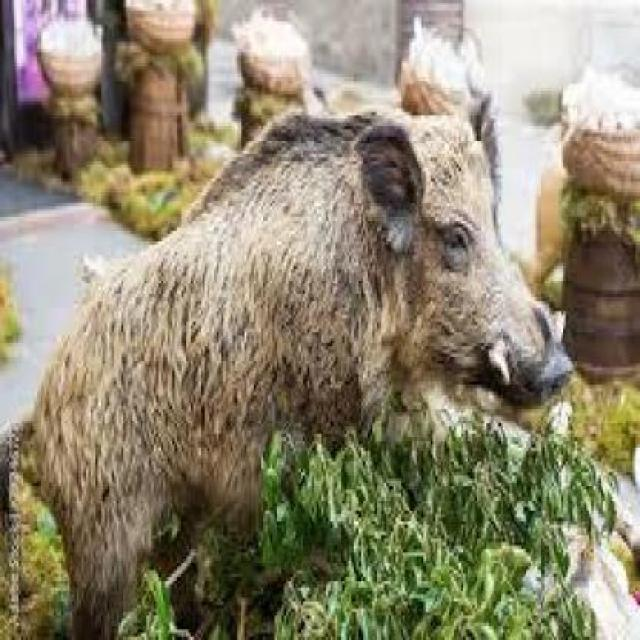wildboar: (0, 91, 577, 640)
